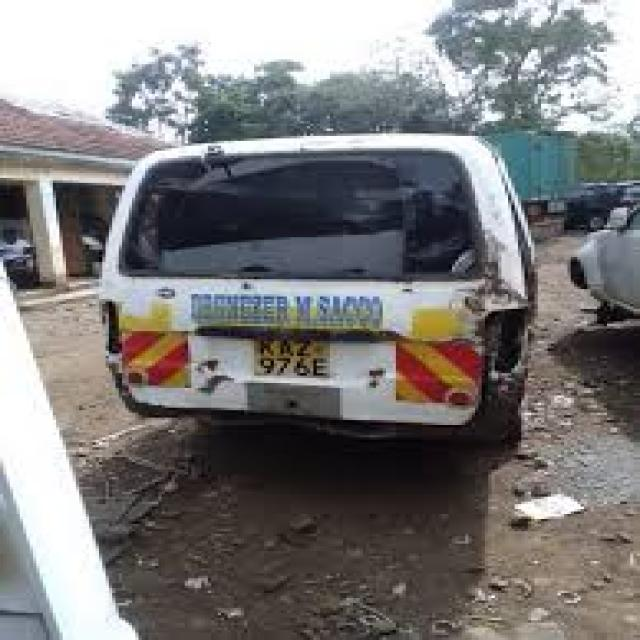matatu: (18, 46, 629, 582)
